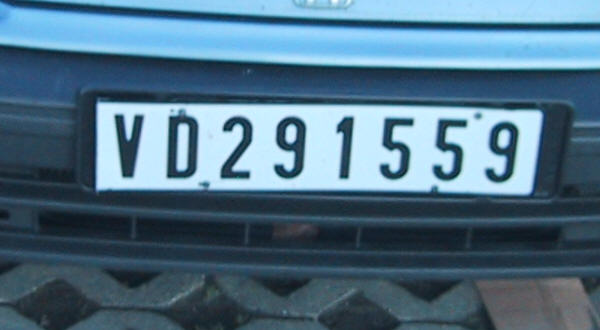license_plate: (94, 97, 544, 196)
